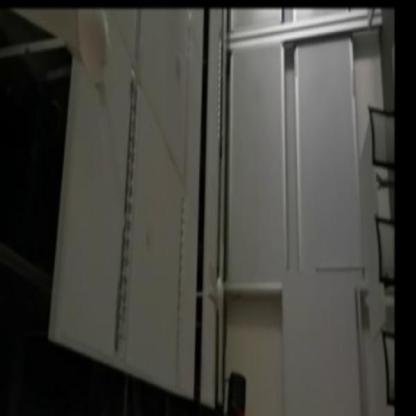light_off: (110, 51, 141, 362), (170, 185, 187, 378)
